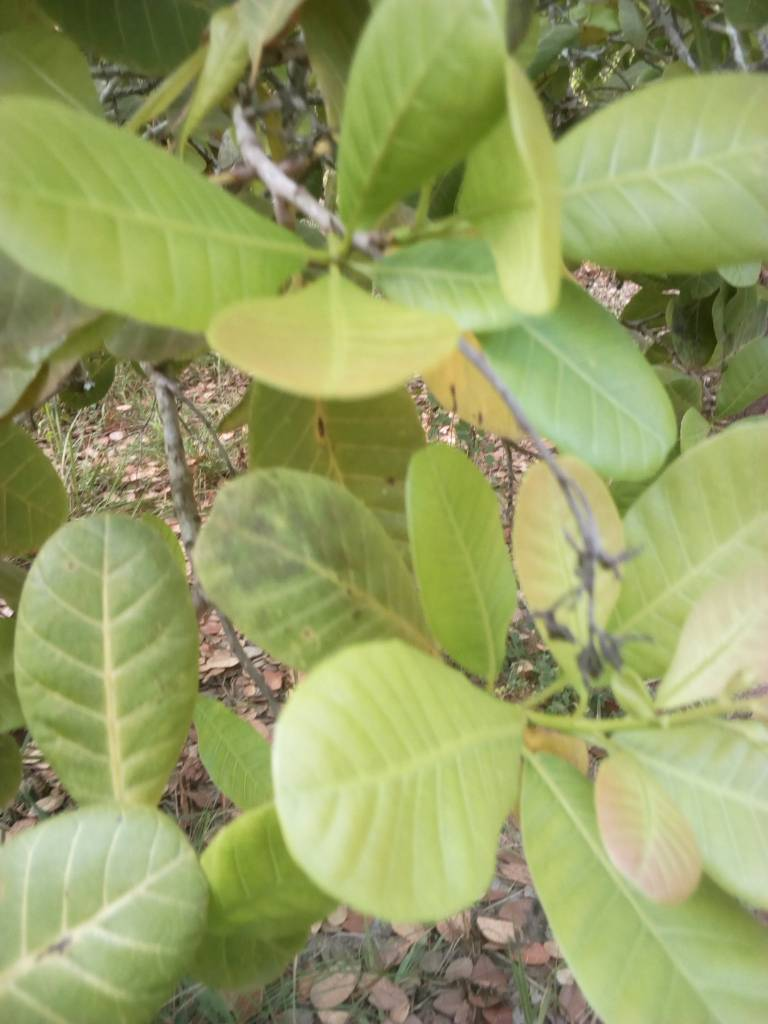Dessèchement des bourgeons: (552, 524, 643, 689)
